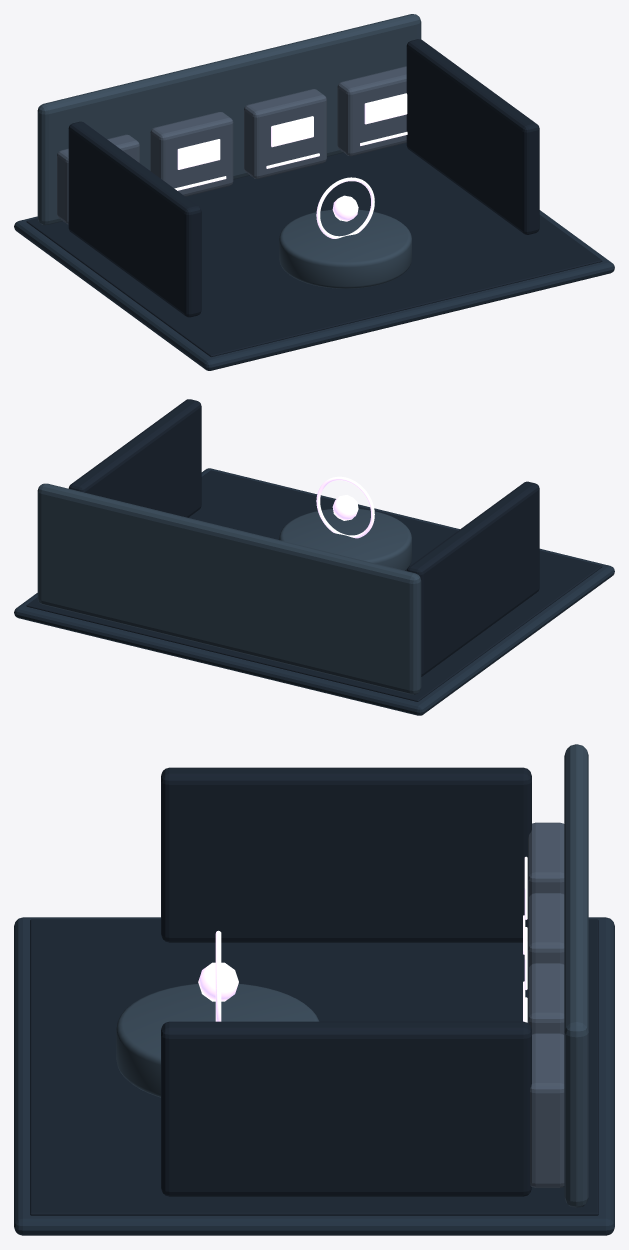
Rendered from build-lab.glb.
The picture shows the model from 3 angles, top to bottom: view 1: azimuth 30°, elevation 25°; view 2: azimuth 150°, elevation 25°; view 3: azimuth 270°, elevation 25°; orthographic projection. The views are drawn at different scales.
Parts seen in each view (by area): view 1: inset, rear_wall, side_column, side_column.001, platform, review_table, archive_bay.002, archive_bay.001, archive_bay.003, archive_bay, archive_screen.001, archive_screen.003 (+3 smaller); view 2: rear_wall, side_column, inset, platform, side_column.001, review_table, review_holo, review_core; view 3: inset, side_column.001, side_column, platform, rear_wall, review_table, archive_bay.003, archive_bay.001, archive_bay, archive_bay.002, review_core.
Boxes of the visible parts, box(x1,y1,x2,y2) form: inset: box(26, 143, 602, 356); rear_wall: box(37, 14, 421, 225); side_column: box(68, 121, 201, 317); side_column.001: box(406, 39, 539, 234); platform: box(14, 210, 614, 370); review_table: box(279, 209, 411, 288); archive_bay.002: box(244, 89, 326, 178); archive_bay.001: box(150, 112, 233, 196); archive_bay.003: box(337, 66, 406, 156); archive_bay: box(57, 134, 139, 224); archive_screen.001: box(177, 139, 220, 169); archive_screen.003: box(364, 93, 407, 124); rear_wall: box(37, 483, 421, 694); side_column: box(407, 481, 539, 676); inset: box(26, 470, 602, 701); platform: box(14, 468, 614, 715); side_column.001: box(68, 399, 201, 517); review_table: box(279, 509, 411, 570); review_holo: box(316, 476, 374, 538); review_core: box(332, 495, 358, 520); inset: box(30, 919, 598, 1215); side_column.001: box(161, 1021, 531, 1196); side_column: box(161, 767, 531, 942); platform: box(14, 917, 614, 1235); rear_wall: box(564, 744, 588, 1207); review_table: box(116, 983, 319, 1097); archive_bay.003: box(530, 1033, 564, 1187); archive_bay.001: box(528, 893, 564, 969); archive_bay: box(528, 822, 564, 899); archive_bay.002: box(528, 963, 564, 1034); review_core: box(198, 962, 238, 1001).
Size of the model in its own units: 11.4 by 3.47 by 9.4.
